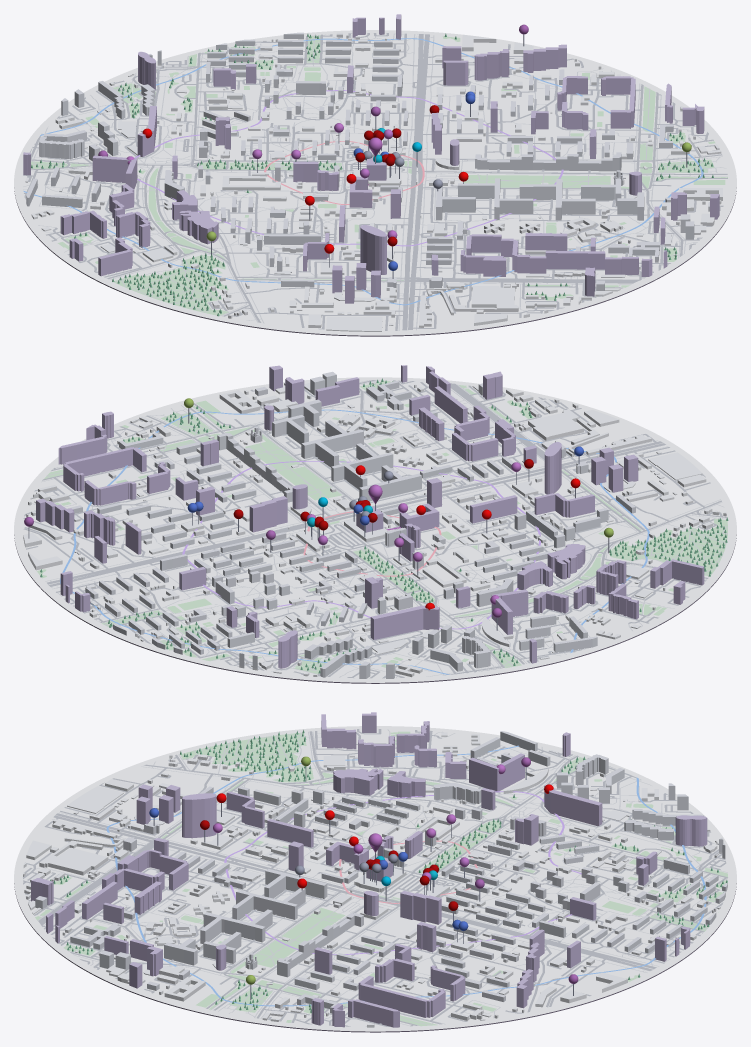
3 views of the same model, one above another, from view 1: azimuth 30°, elevation 25°; view 2: azimuth 150°, elevation 25°; view 3: azimuth 270°, elevation 25° (orthographic).
Visible parts, largest first — view 1: plate_top, roads, bld_wall_hi, bld_wall_mid, bld_roof_lo, roads_path, green, bld_roof_mid, bld_wall_lo, bld_roof_hi, trees, iso_15 (+2 smaller); view 2: plate_top, bld_wall_hi, roads, bld_wall_mid, bld_roof_lo, green, bld_wall_lo, bld_roof_mid, roads_path, bld_roof_hi, trees, iso_15 (+3 smaller); view 3: plate_top, bld_wall_hi, roads, bld_wall_mid, bld_roof_lo, green, roads_path, bld_wall_lo, bld_roof_mid, bld_roof_hi, trees, iso_15 (+4 smaller).
Part boxes in pixels (x1,y1,x2,y2): plate_top: (14, 30, 736, 335); roads: (23, 33, 727, 330); bld_wall_hi: (23, 15, 719, 303); bld_wall_mid: (26, 34, 709, 290); bld_roof_lo: (25, 32, 722, 330); roads_path: (23, 33, 727, 330); green: (31, 35, 727, 315); bld_roof_mid: (26, 32, 709, 284); bld_wall_lo: (25, 34, 722, 331); bld_roof_hi: (23, 14, 719, 280); trees: (31, 33, 713, 316); iso_15: (23, 38, 703, 305); plate_top: (14, 377, 736, 682); bld_wall_hi: (36, 365, 704, 668); roads: (23, 380, 726, 678); bld_wall_mid: (73, 374, 635, 678); bld_roof_lo: (23, 382, 726, 674); green: (37, 380, 727, 673); bld_wall_lo: (23, 383, 726, 677); bld_roof_mid: (66, 371, 635, 668); roads_path: (31, 380, 727, 678); bld_roof_hi: (36, 365, 703, 642); trees: (40, 378, 728, 673); iso_15: (60, 409, 649, 674); plate_top: (14, 726, 736, 1031); bld_wall_hi: (31, 715, 707, 1027); roads: (23, 729, 727, 1026); bld_wall_mid: (35, 732, 727, 1013); bld_roof_lo: (23, 732, 720, 1024); green: (35, 731, 727, 1026); roads_path: (36, 729, 727, 1026); bld_wall_lo: (23, 735, 725, 1027); bld_roof_mid: (36, 731, 727, 1007); bld_roof_hi: (31, 712, 706, 1011); trees: (50, 730, 727, 1012); iso_15: (106, 745, 706, 1006).
Size of the model in its own units: 1.02 by 0.0715 by 1.02.
